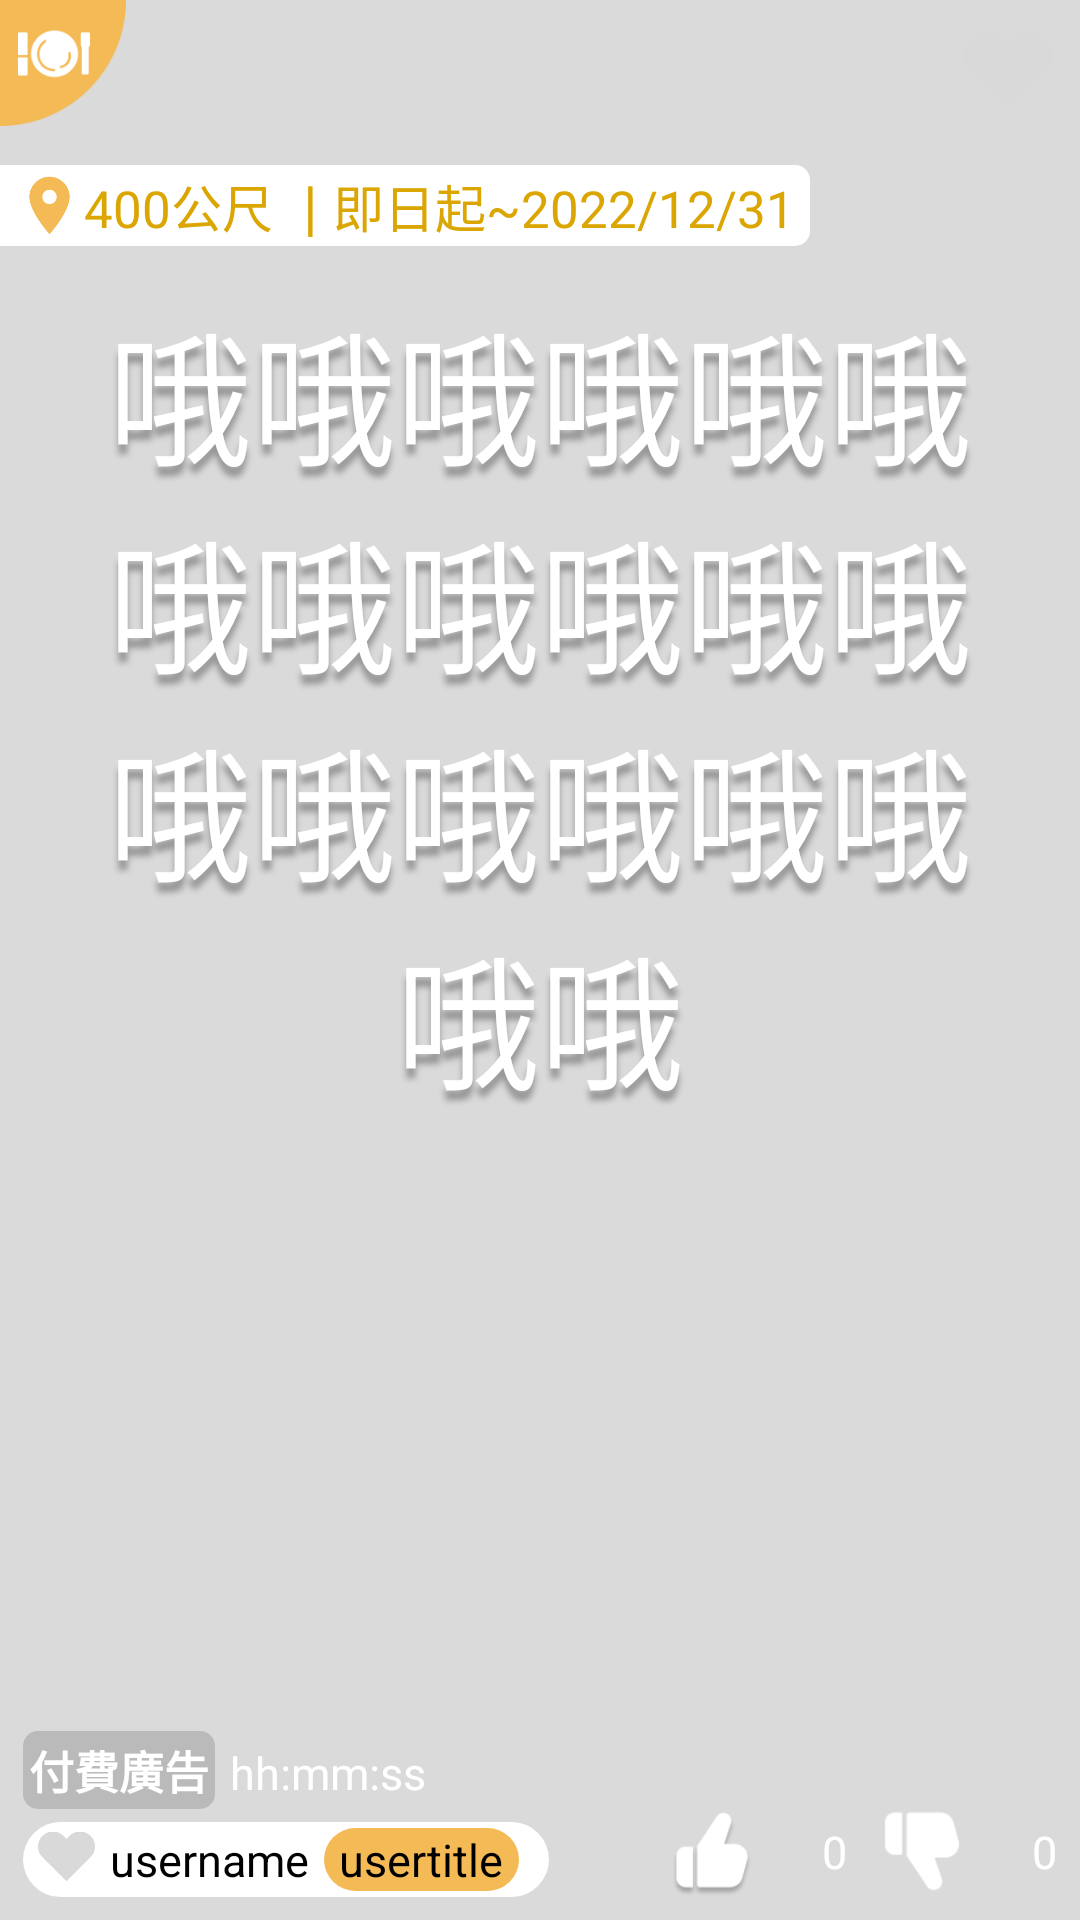

Where to tap for icons on this 1080px x 1920px app screen, as [x,y]:
address: [49,205]
bad: [922,1851]
food: [63,63]
good: [711,1852]
heart: [66,1856]
